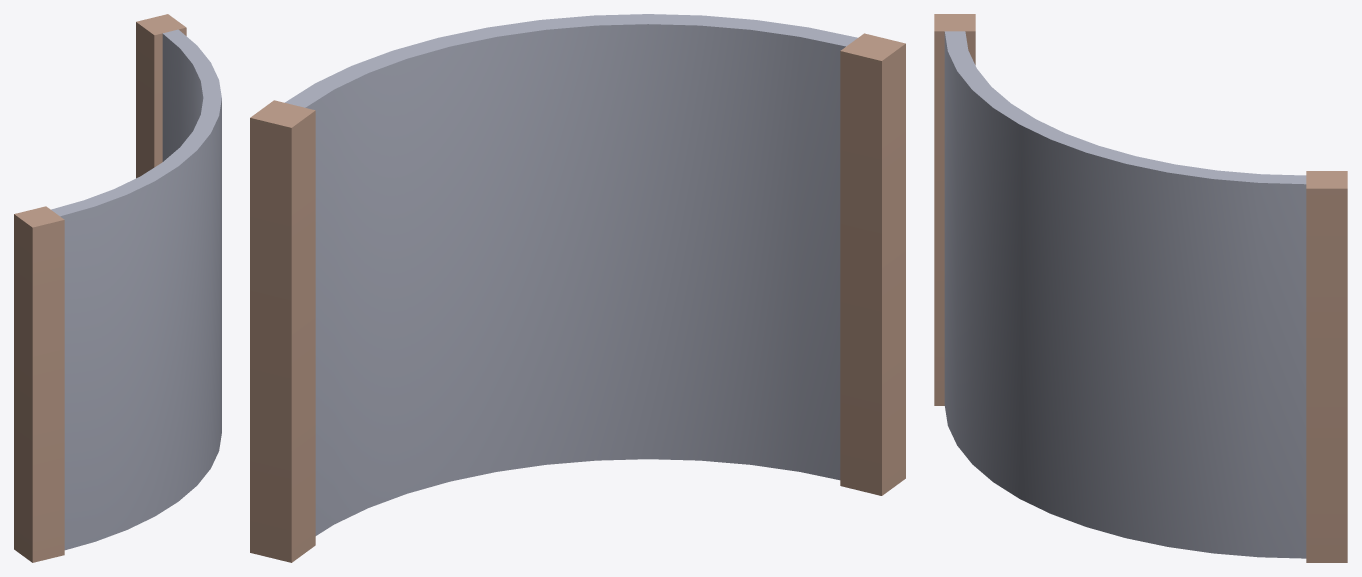
File: wall-curved.glb
3 renders of one model, left to right at view 1: azimuth 30°, elevation 25°; view 2: azimuth 150°, elevation 25°; view 3: azimuth 270°, elevation 25°, orthographic. The views are drawn at different scales.
Parts seen in each view (by area): view 1: wall-curved; view 2: wall-curved; view 3: wall-curved.
Boxes of the visible parts, x1,y1,x2,y2 form: wall-curved: (14, 14, 221, 562); wall-curved: (250, 14, 905, 562); wall-curved: (934, 14, 1347, 562).
Bounding box in the file's own units: 1 × 1 × 1.
